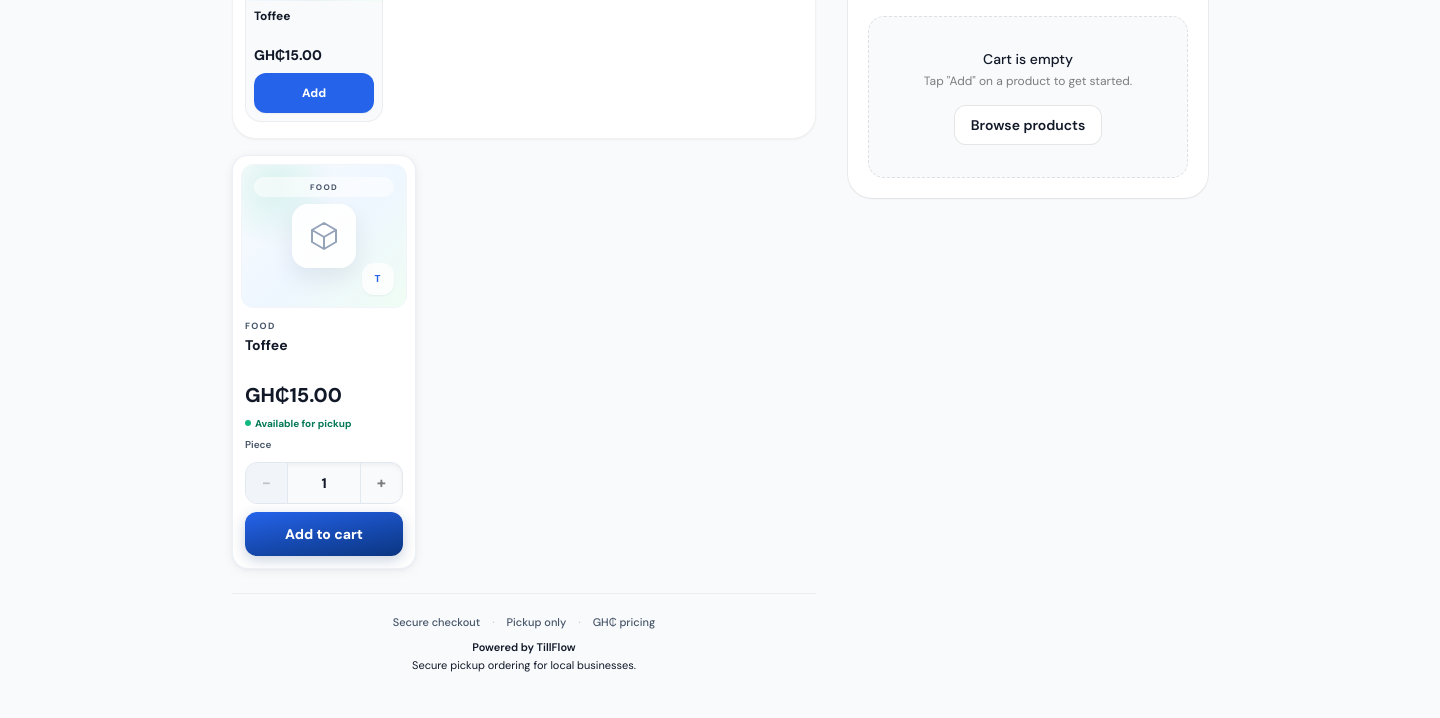
it: storefront basket continuity › keeps an existing item and total when a search replaces the catalogue
The width and height of the screenshot is (1440, 718).
(page scrolled)
Click the button with aria-label "Add Toffee to cart".
click(324, 534)  # box [245, 512, 403, 556]
(page scrolled)
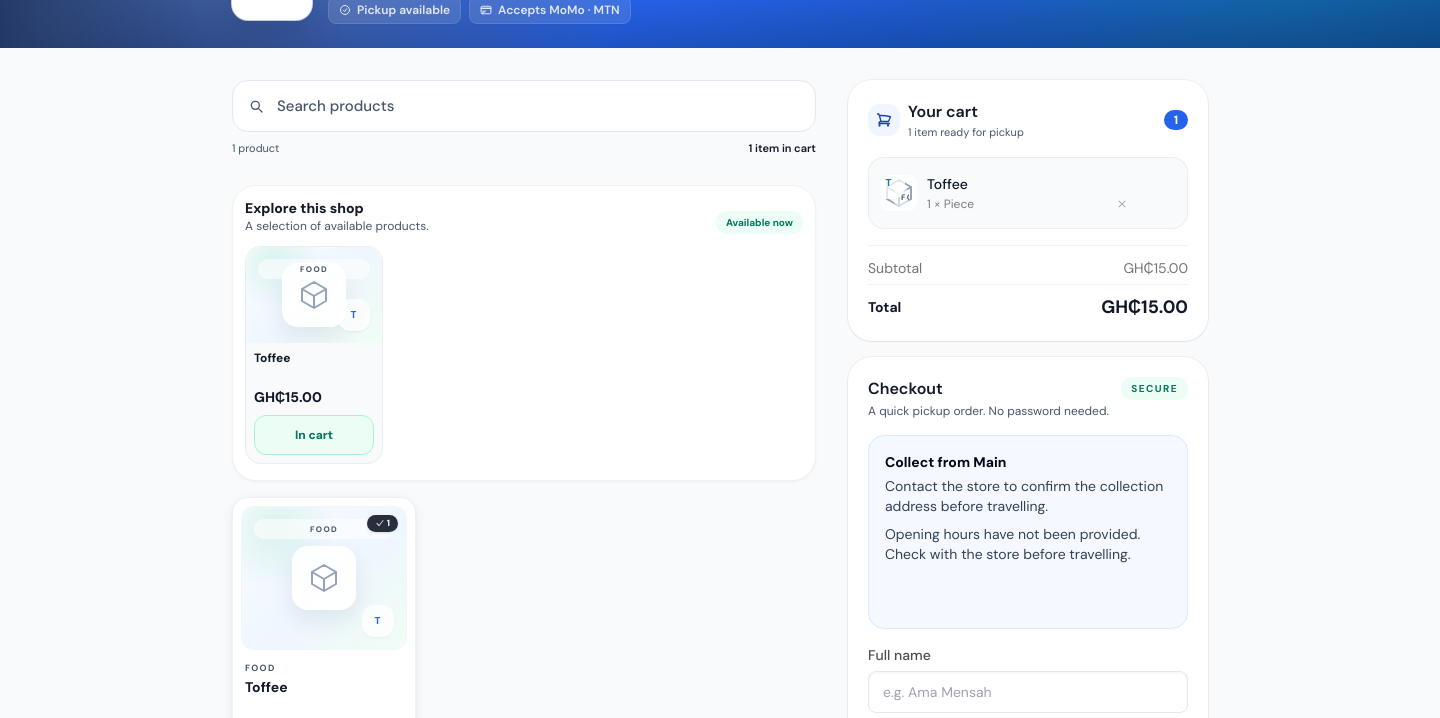
Result: the text "1 × Piece" is shown at [927, 196, 974, 212]
Type "rice" into the search field labelled "Search products".
click(524, 106); type("rice")  # box [232, 80, 816, 132]
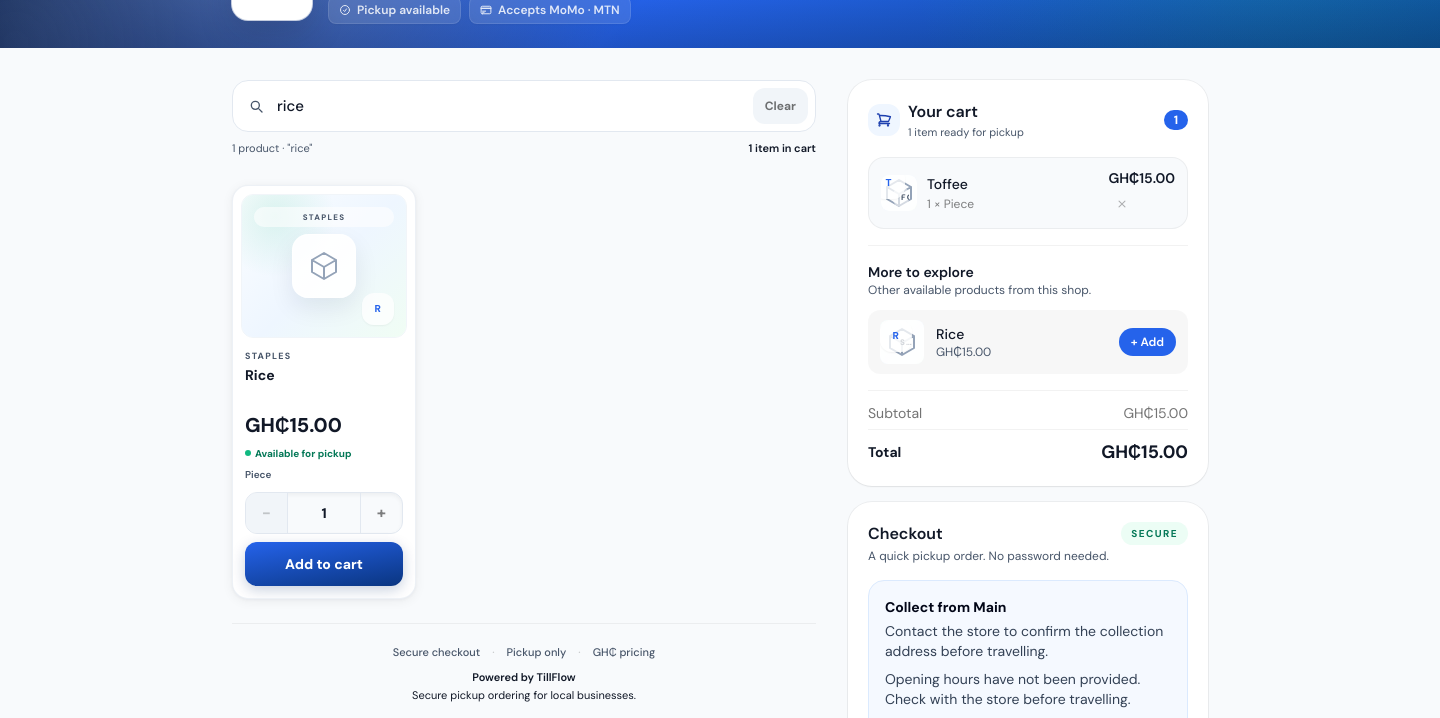
Result: the text "1 × Piece" is shown at [927, 196, 974, 212]
Result: the button with aria-label "Add Rice to cart" is shown
Result: the heading "More to explore" is shown at [868, 262, 974, 280]
Click the button with aria-label "Add Rice to cart".
click(324, 564)  # box [245, 542, 403, 586]
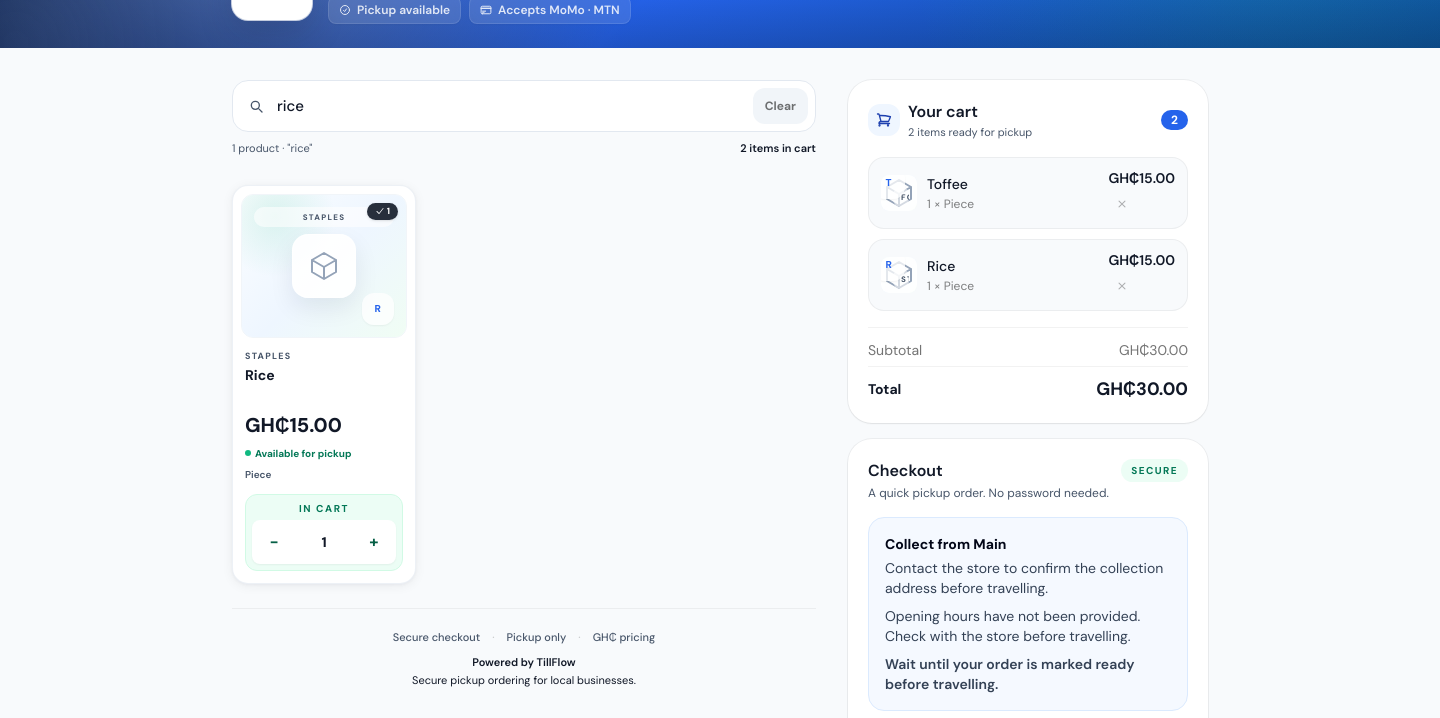
Result: the text "Rice" is shown at [927, 256, 955, 274]
Result: the text "1 × Piece" is shown 2 times at [927, 196, 974, 212]; [927, 278, 974, 294]
Result: the text "GH₵30.00" in the row of "Subtotal" is shown at [1119, 340, 1188, 358]
